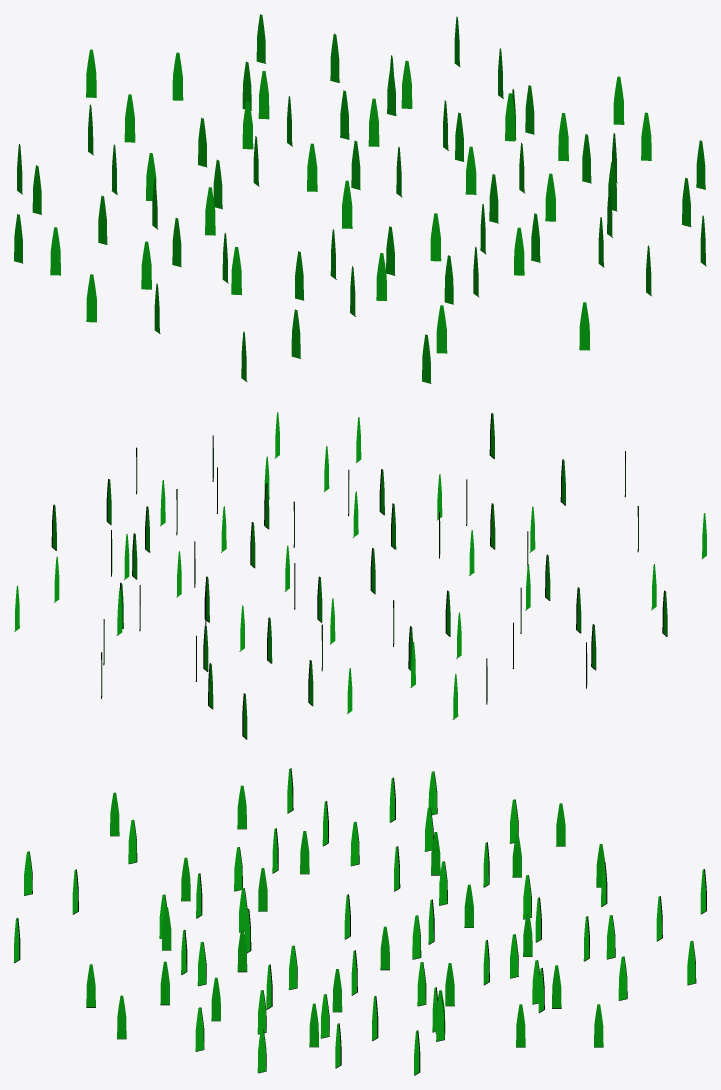
File: PastoAnimado.fbx
3 renders of one model, top to bottom at view 1: azimuth 30°, elevation 25°; view 2: azimuth 150°, elevation 25°; view 3: azimuth 270°, elevation 25°, orthographic. The views are drawn at different scales.
Visible parts, largest first — view 1: Plane.001; view 2: Plane.001; view 3: Plane.001.
Part boxes in pixels (left/top/right/bottom): Plane.001: left=14, top=14, right=706, bottom=383; Plane.001: left=14, top=412, right=706, bottom=739; Plane.001: left=14, top=768, right=706, bottom=1075.
Size of the model in its own units: 117 by 8.86 by 129.
